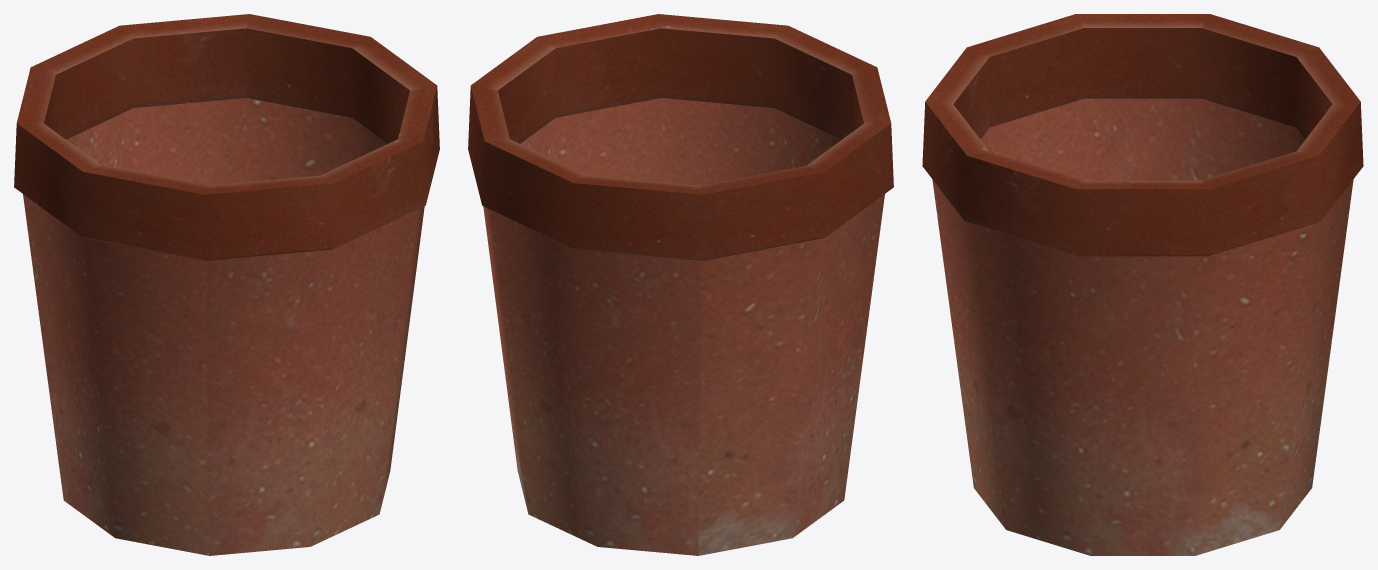
Rendered from flowerpot1b.fbx.
3 renders of one model, left to right at view 1: azimuth 30°, elevation 25°; view 2: azimuth 150°, elevation 25°; view 3: azimuth 270°, elevation 25°, orthographic.
Parts seen in each view (by area): view 1: flowerpot1b; view 2: flowerpot1b; view 3: flowerpot1b.
Boxes of the visible parts, left/top/right/bottom form: flowerpot1b: left=14, top=14, right=439, bottom=555; flowerpot1b: left=468, top=14, right=893, bottom=555; flowerpot1b: left=922, top=14, right=1363, bottom=555.
Size of the model in its own units: 0.2186 by 0.2222 by 0.2298.
